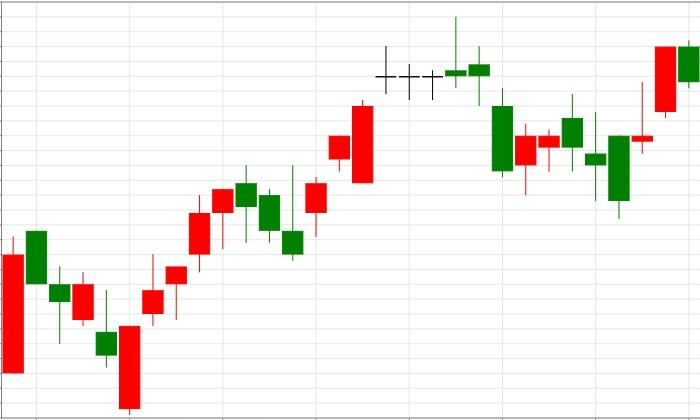hanging_man_fall: (119, 189, 234, 416)
inverse_hammer_rise: (26, 231, 116, 368)
